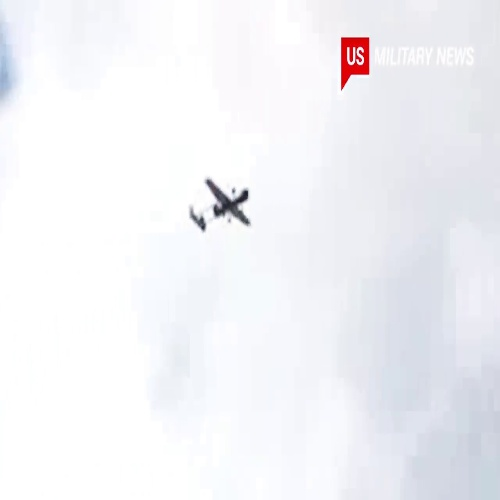uav656: (189, 174, 251, 232)
